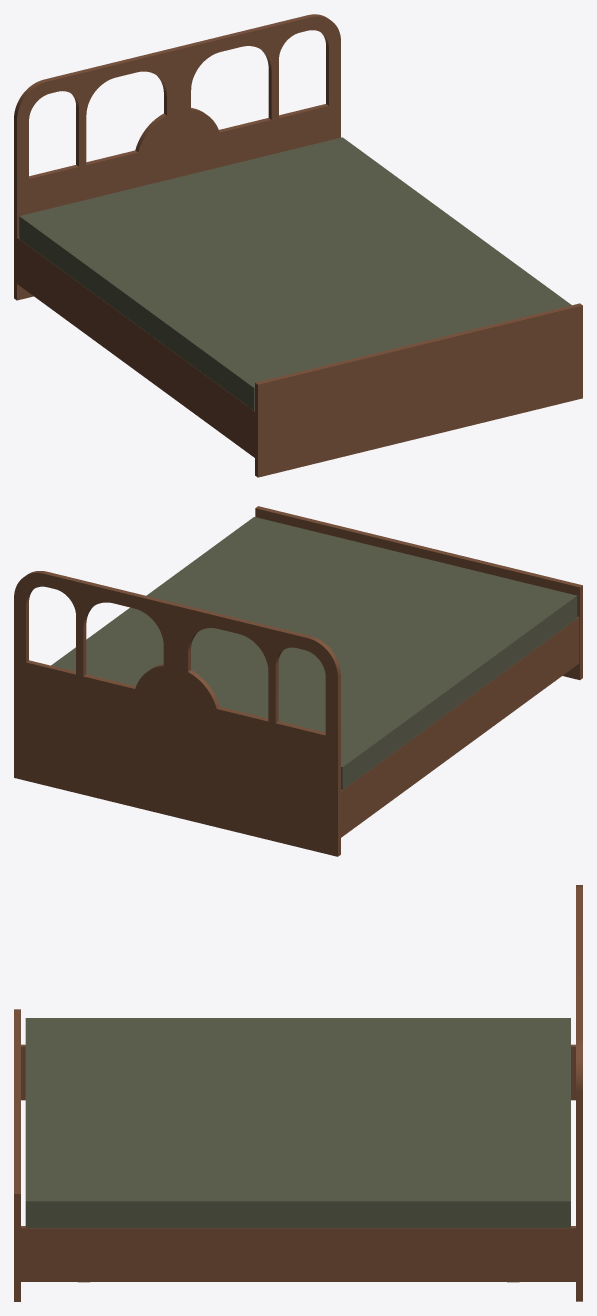
3 views of the same model, one above another, from view 1: azimuth 30°, elevation 25°; view 2: azimuth 150°, elevation 25°; view 3: azimuth 270°, elevation 25° (orthographic). The views are drawn at different scales.
Visible parts, largest first — view 1: bed; view 2: bed; view 3: bed.
Boxes of the visible parts, x1,y1,x2,y2 form: bed: [14, 14, 582, 477]; bed: [14, 506, 582, 856]; bed: [14, 885, 582, 1301].
Size of the model in its own units: 1.53 by 0.95 by 1.99.
